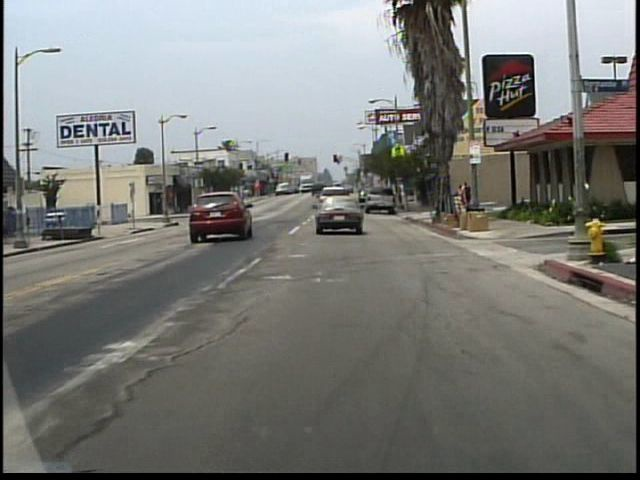person: (463, 182, 473, 211), (458, 184, 465, 208)
